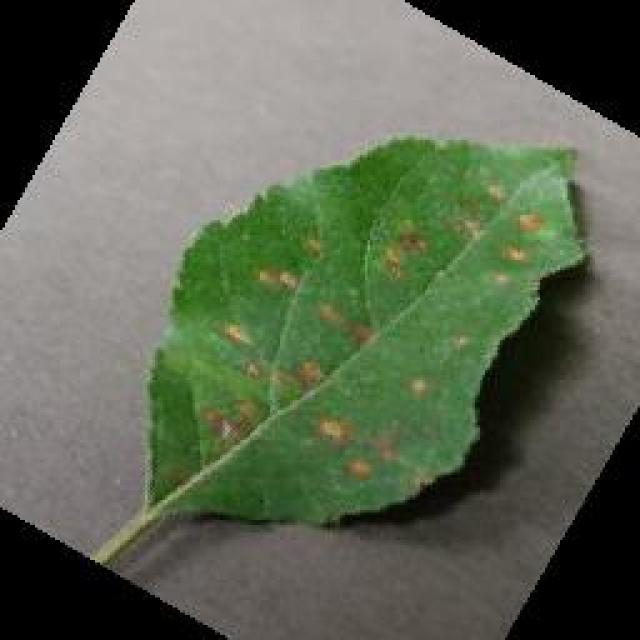apple scab disease: (92, 130, 590, 565)
